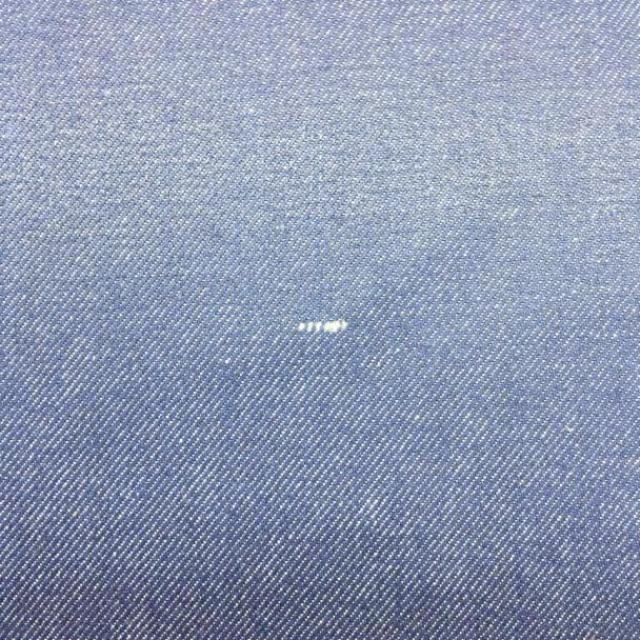Knot: (297, 320, 349, 333)
